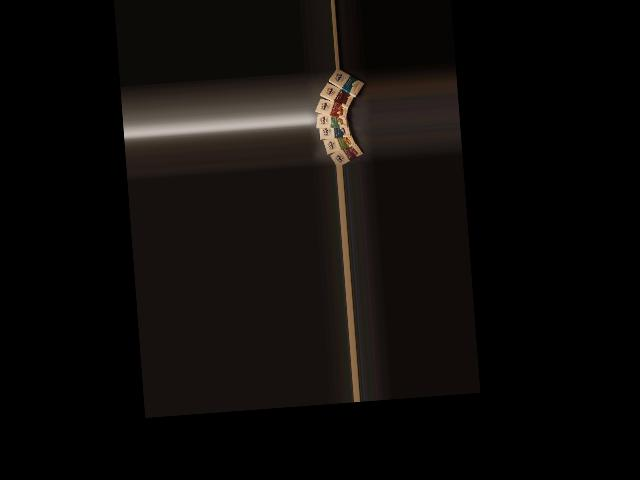chocolate: (326, 68, 367, 99)
